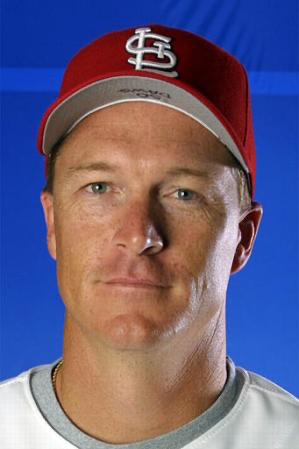Face: (45, 134, 239, 354)
